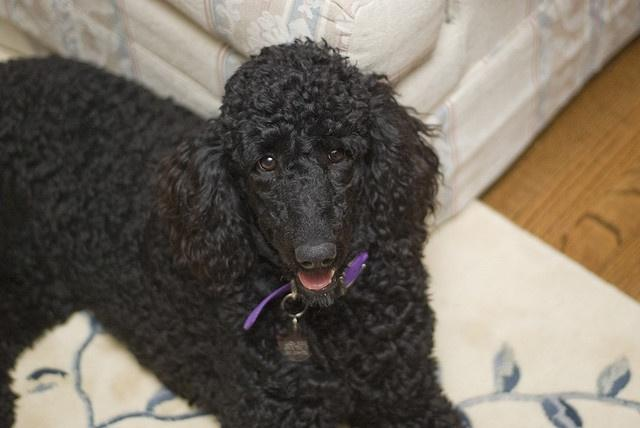dog: (0, 40, 460, 426)
